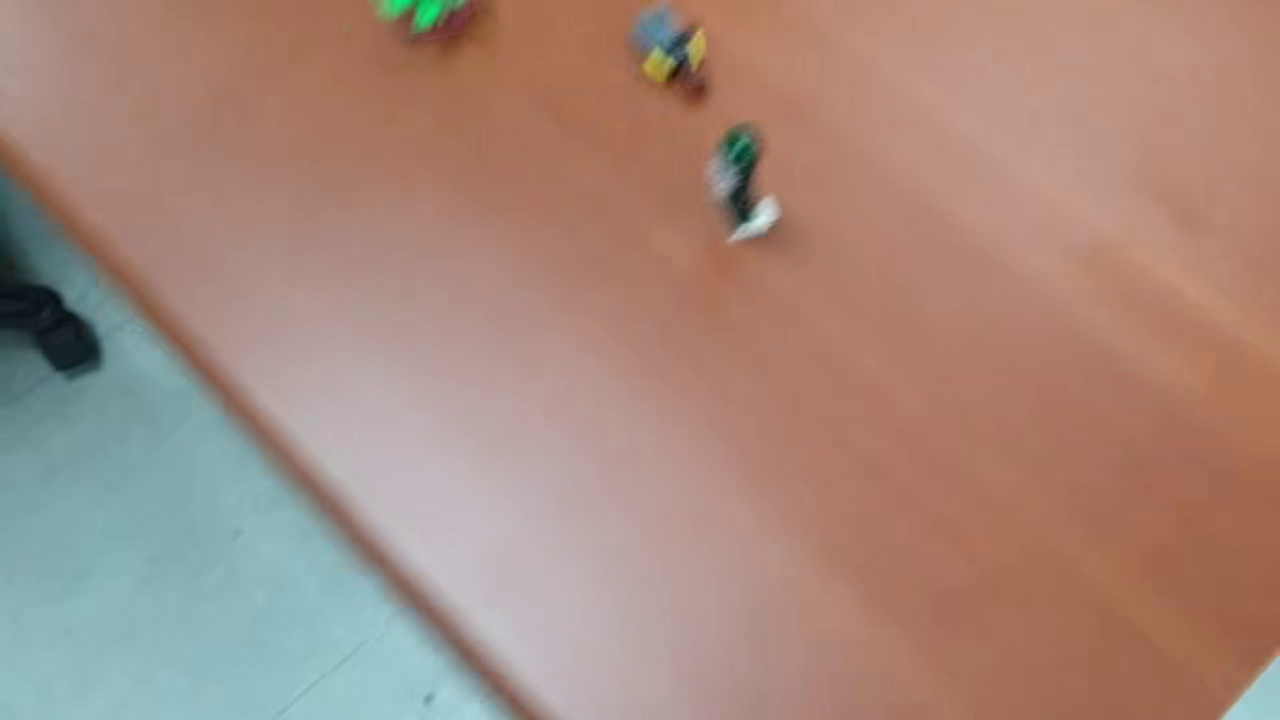people: (704, 123, 781, 247), (623, 1, 715, 103)
